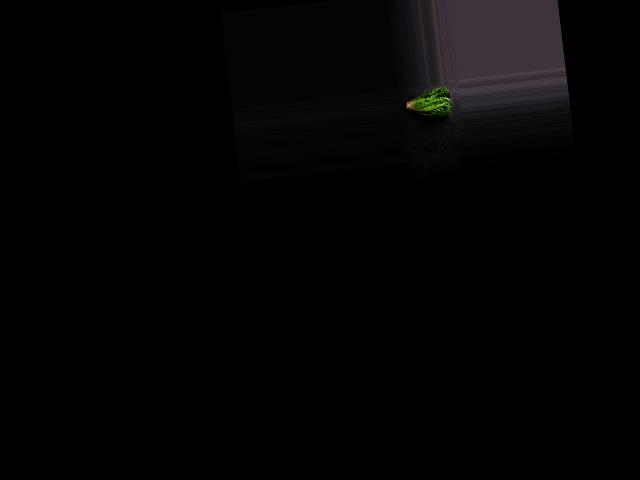lettuce: (400, 85, 453, 123)
